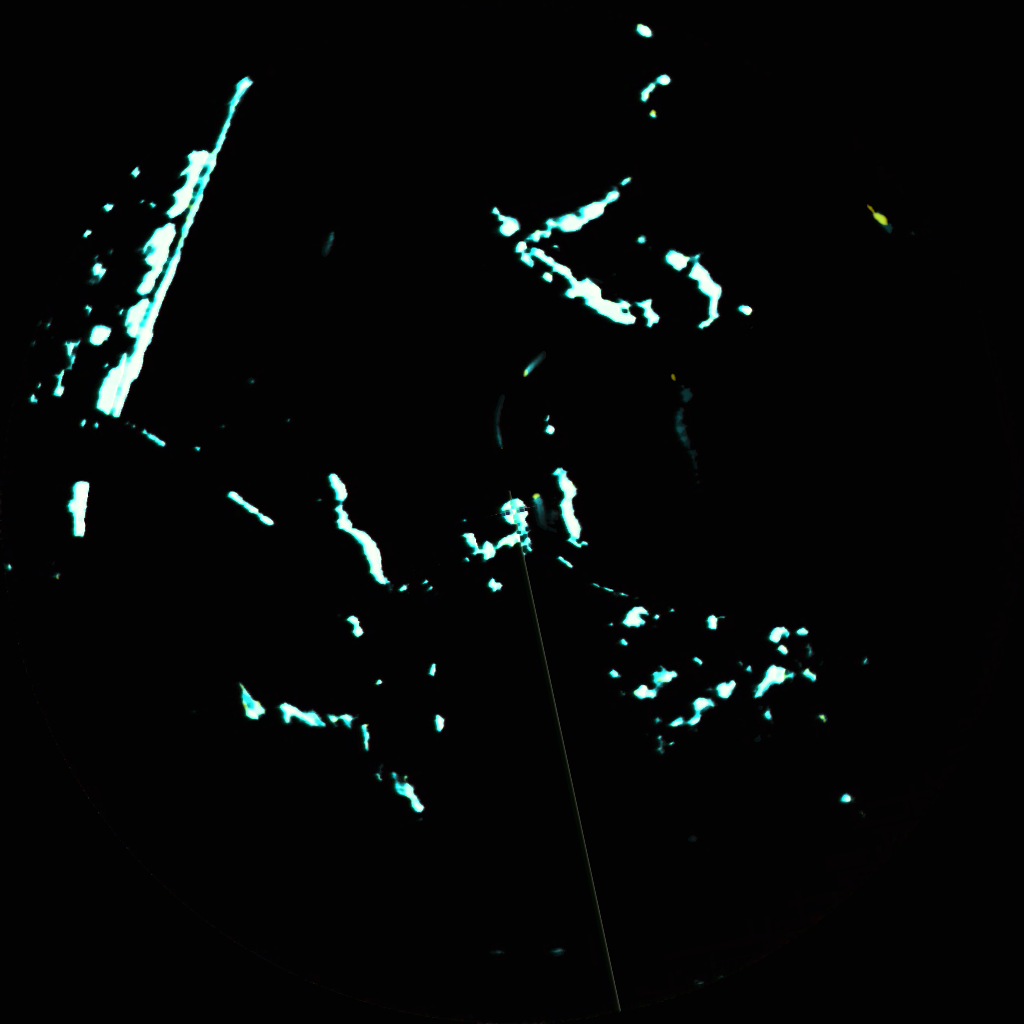B: (532, 498, 546, 521), (520, 361, 539, 376), (494, 422, 504, 442), (320, 236, 331, 254)
